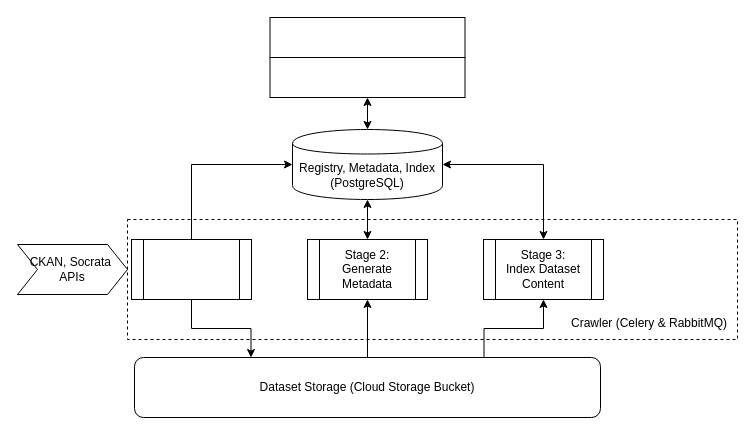
Some shapes in this 755 by 435 pixel diagram are drawn without their labels. Here are the shapes that lost their labels. From the top down, the box of each, then its label:
(269, 16, 465, 58): frontend (React JS)
(269, 56, 465, 98): apiserver (Flask)
(130, 238, 252, 300): Stage 1: Harvest Datasets
